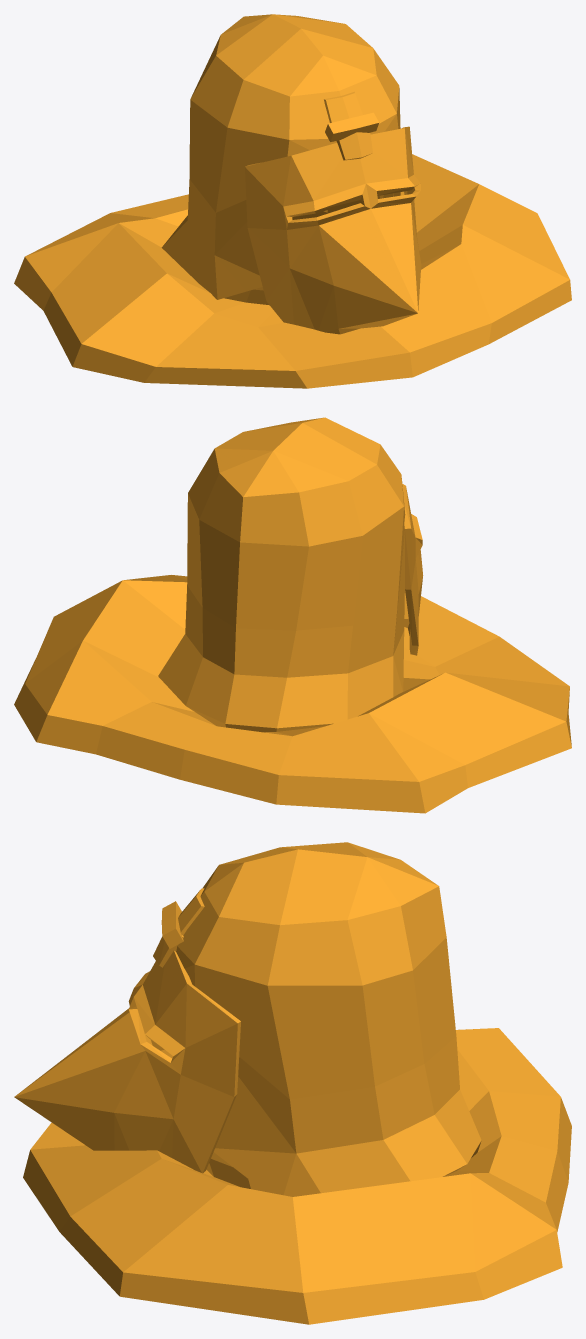
The model's file is SM_Helmet_Houndskull_Bascinet_Aventail_Placed.fbx.
3 renders of one model, top to bottom at view 1: azimuth 30°, elevation 25°; view 2: azimuth 150°, elevation 25°; view 3: azimuth 270°, elevation 25°, orthographic. The views are drawn at different scales.
Parts seen in each view (by area): view 1: helmet-houndskull-bascinet-aventail-placed-helmet, helmet-houndskull-bascinet-aventail-placed-visor; view 2: helmet-houndskull-bascinet-aventail-placed-helmet, helmet-houndskull-bascinet-aventail-placed-visor; view 3: helmet-houndskull-bascinet-aventail-placed-helmet, helmet-houndskull-bascinet-aventail-placed-visor.
Part boxes in pixels (box(x1,y1,x2,y2)): helmet-houndskull-bascinet-aventail-placed-helmet: box(14, 14, 571, 388); helmet-houndskull-bascinet-aventail-placed-visor: box(245, 126, 421, 334); helmet-houndskull-bascinet-aventail-placed-helmet: box(14, 417, 571, 813); helmet-houndskull-bascinet-aventail-placed-visor: box(402, 484, 423, 655); helmet-houndskull-bascinet-aventail-placed-helmet: box(23, 842, 571, 1324); helmet-houndskull-bascinet-aventail-placed-visor: box(14, 935, 240, 1173).
Size of the model in its own units: 0.5734 by 0.3 by 0.4599.
